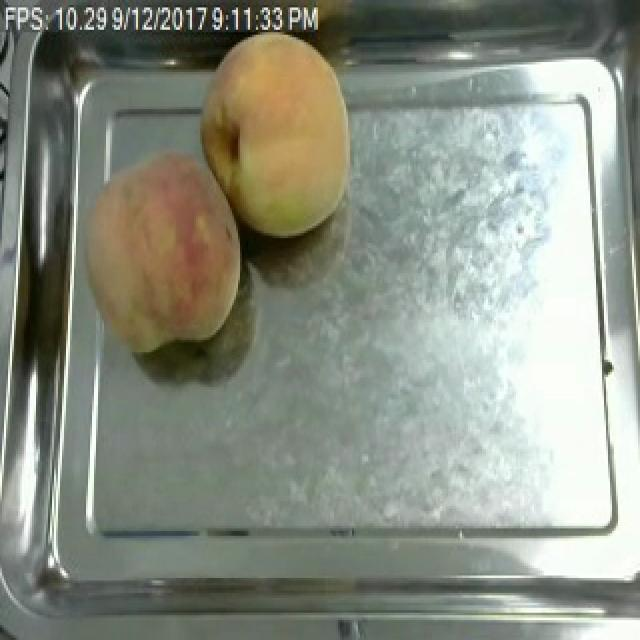Fruit: (68, 142, 252, 362), (192, 20, 362, 245)
